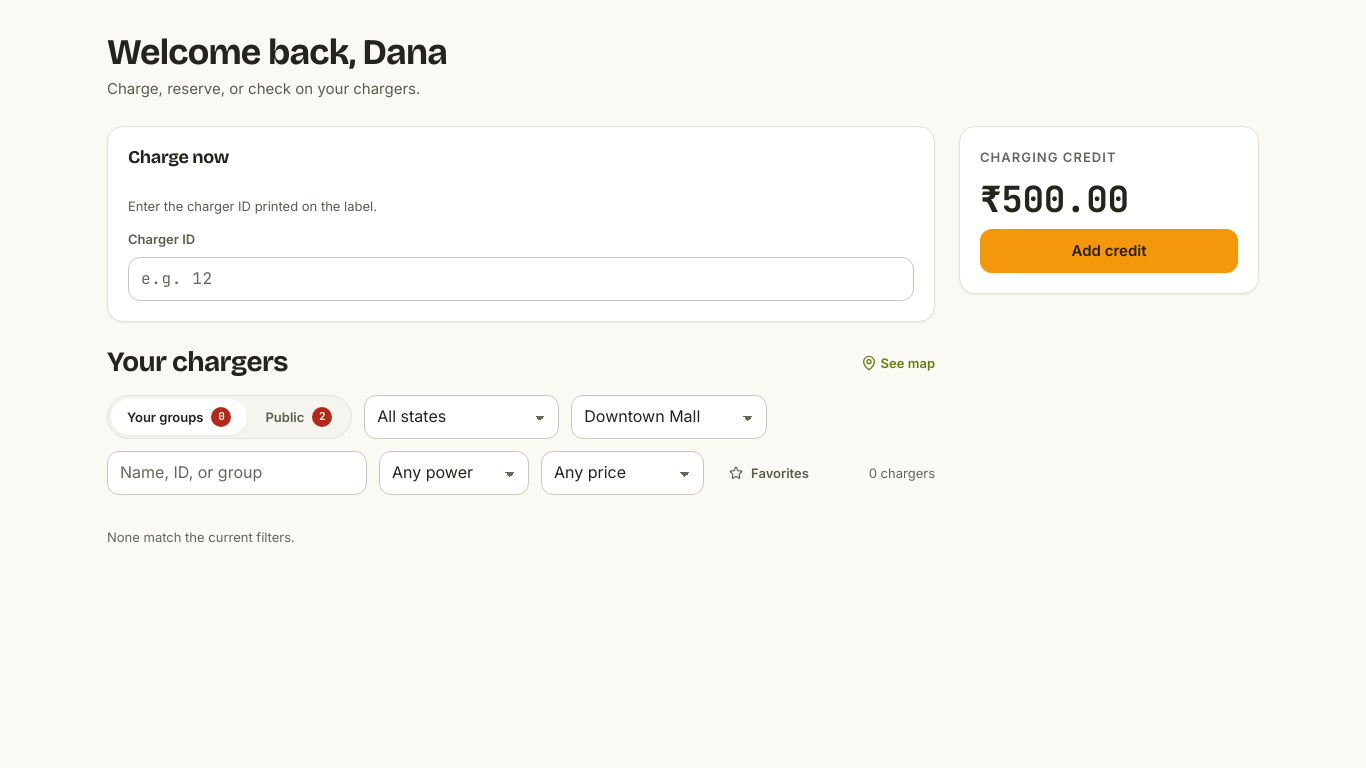
Test: Dashboard — charger grid › ?group= preselects the group filter
Check: the dropdown named "Filter by group" shows "Downtown Mall", box [571,395,767,439]
Note: The preselected group has no private plugs — Public shows its chargers.
Click the button "Public 2".
click(299, 417)  # box [250,399,348,435]
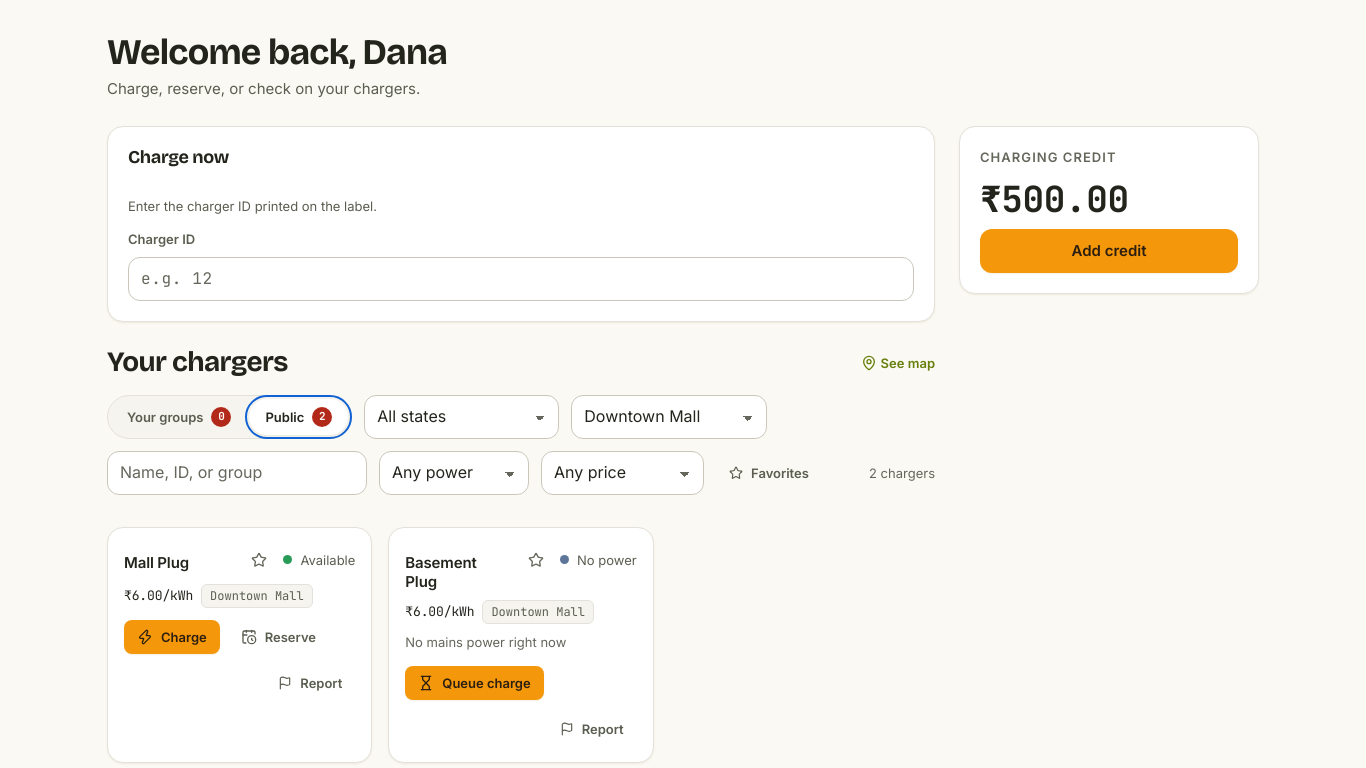
Check: the heading "Mall Plug" is shown, box [124,553,189,572]
